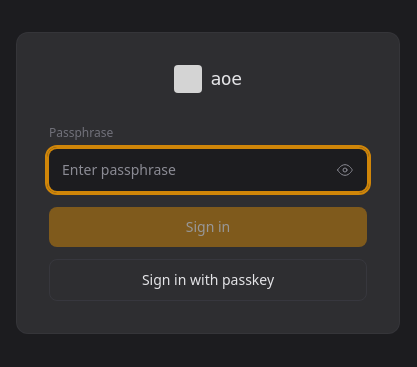
Test: LoginPage › passkey sign-in › stays silent on a dismissed prompt and shows server errors
Step 1. Click the button "Sign in with passkey" → (208, 280), box [49,259,367,301]
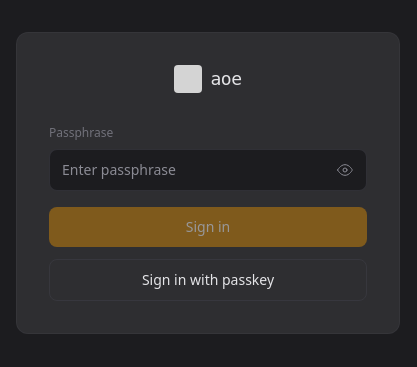
Check: the text "Passkey verification failed" is not shown
Step 2. Click the button "Sign in with passkey" → (208, 280), box [49,259,367,301]
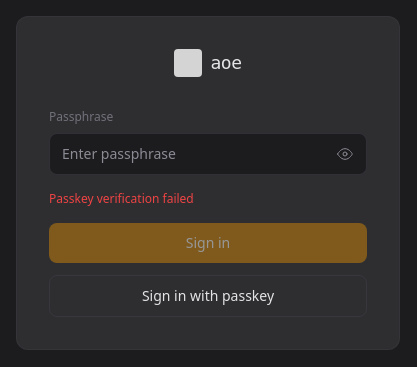
Check: the text "Passkey verification failed" is shown, box [49,190,194,207]
